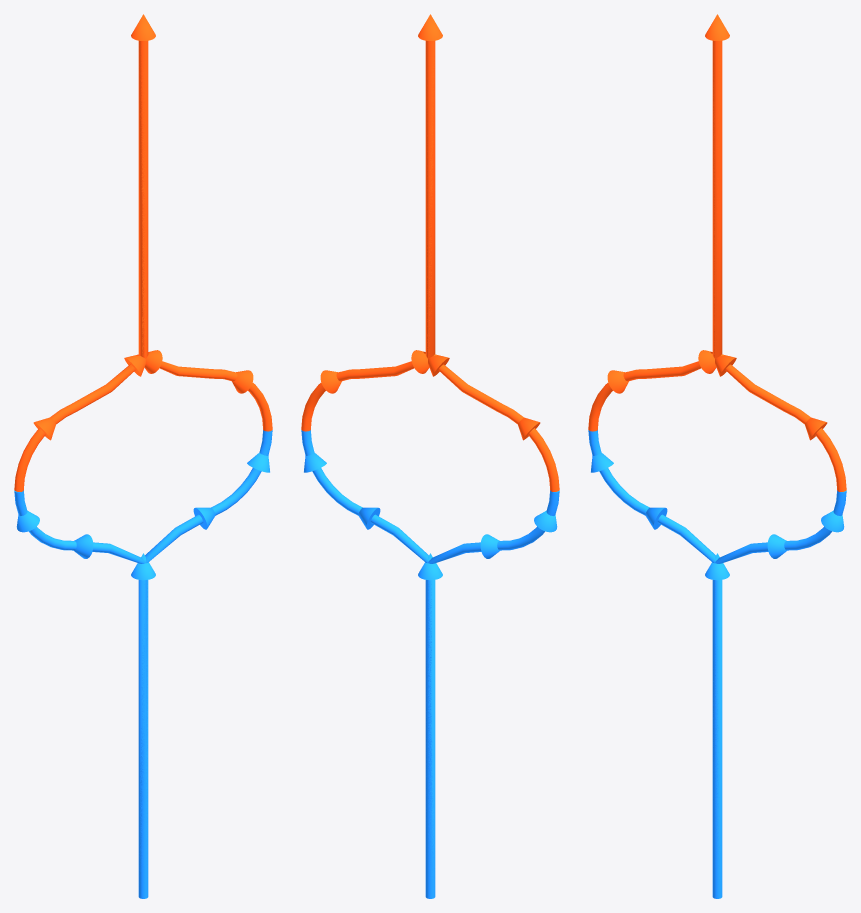
The model's file is rotary_lobe_pump_flow.glb.
The picture shows the model from 3 angles, left to right: view 1: azimuth 30°, elevation 25°; view 2: azimuth 150°, elevation 25°; view 3: azimuth 330°, elevation 25°; orthographic projection.
Parts seen in each view (by area): view 1: flow_out1, flow_in-1, flow_in1, flow_out-1; view 2: flow_in-1, flow_out1, flow_in1, flow_out-1; view 3: flow_in1, flow_out1, flow_out-1, flow_in-1.
Boxes of the visible parts, <box> form: flow_out1: <box>14,14,155,491</box>; flow_in-1: <box>138,430,272,898</box>; flow_in1: <box>14,490,155,898</box>; flow_out-1: <box>136,41,272,431</box>; flow_in-1: <box>301,430,435,898</box>; flow_out1: <box>418,14,559,491</box>; flow_in1: <box>418,490,559,898</box>; flow_out-1: <box>301,41,437,431</box>; flow_in1: <box>588,430,729,898</box>; flow_out1: <box>588,14,729,431</box>; flow_out-1: <box>710,41,846,491</box>; flow_in-1: <box>712,490,846,898</box>.
Bounding box in the file's own units: 0.2463 × 0.808 × 0.0208.
